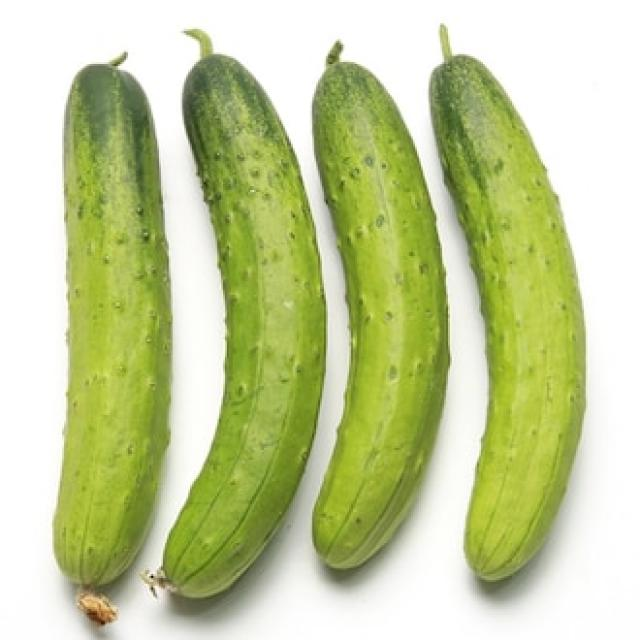cucumber: (43, 26, 598, 635), (419, 40, 590, 594), (172, 36, 326, 622), (47, 43, 162, 630)
